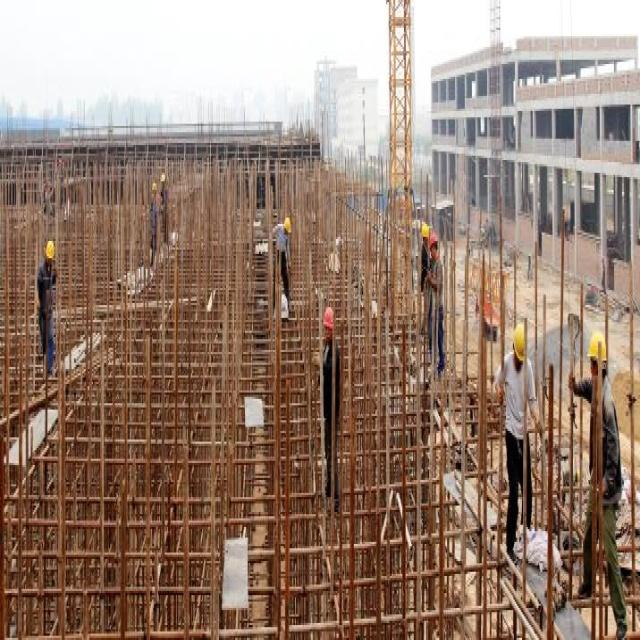helmet: (585, 437, 608, 508), (511, 420, 530, 497), (320, 407, 337, 452), (43, 314, 55, 354), (280, 282, 293, 318), (428, 307, 438, 341), (422, 292, 431, 327), (159, 223, 166, 253), (151, 238, 158, 266)
